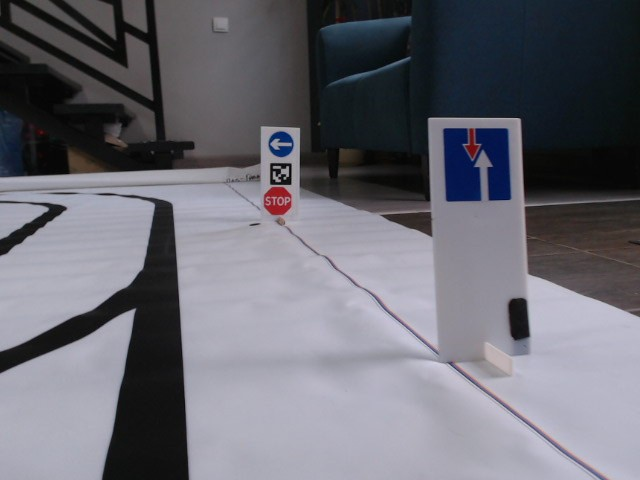Stop: (262, 185, 292, 216)
priority_movement: (442, 126, 512, 201)
